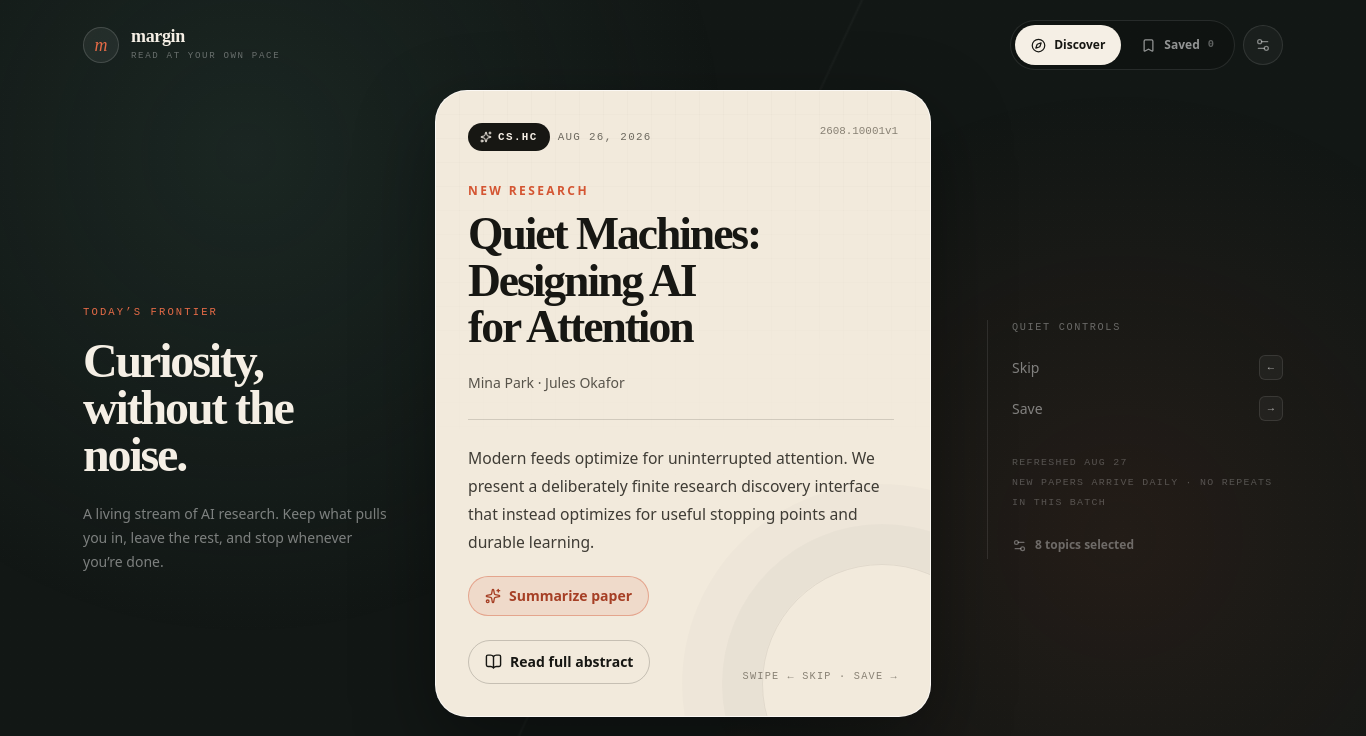
DiscoveryApp › reveals the full abstract and canonical reading links
The width and height of the screenshot is (1366, 736).
What coordinates should you click on to do the following:
click the button "Read full abstract"
I would click on:
 (559, 662)
Its box is [468, 640, 650, 684].
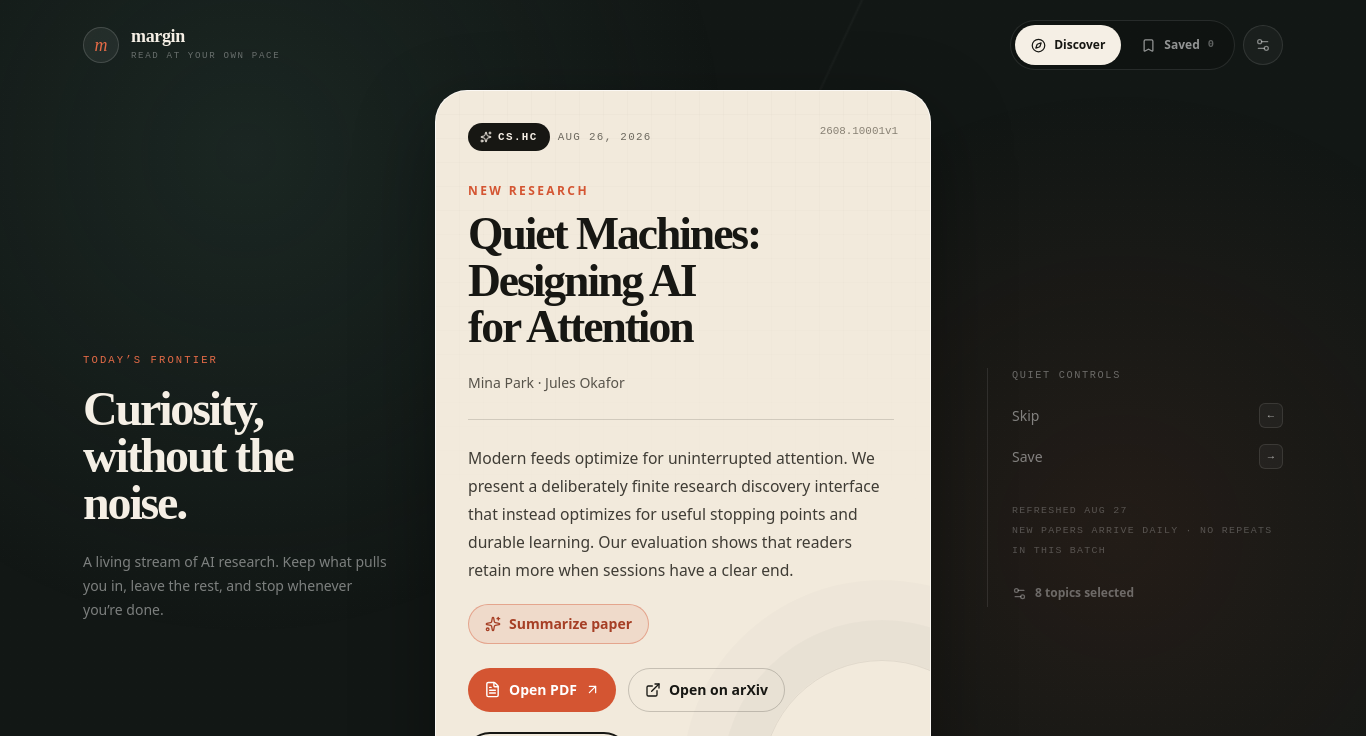
Now the text "Our evaluation shows" is shown, box [468, 447, 880, 581]
